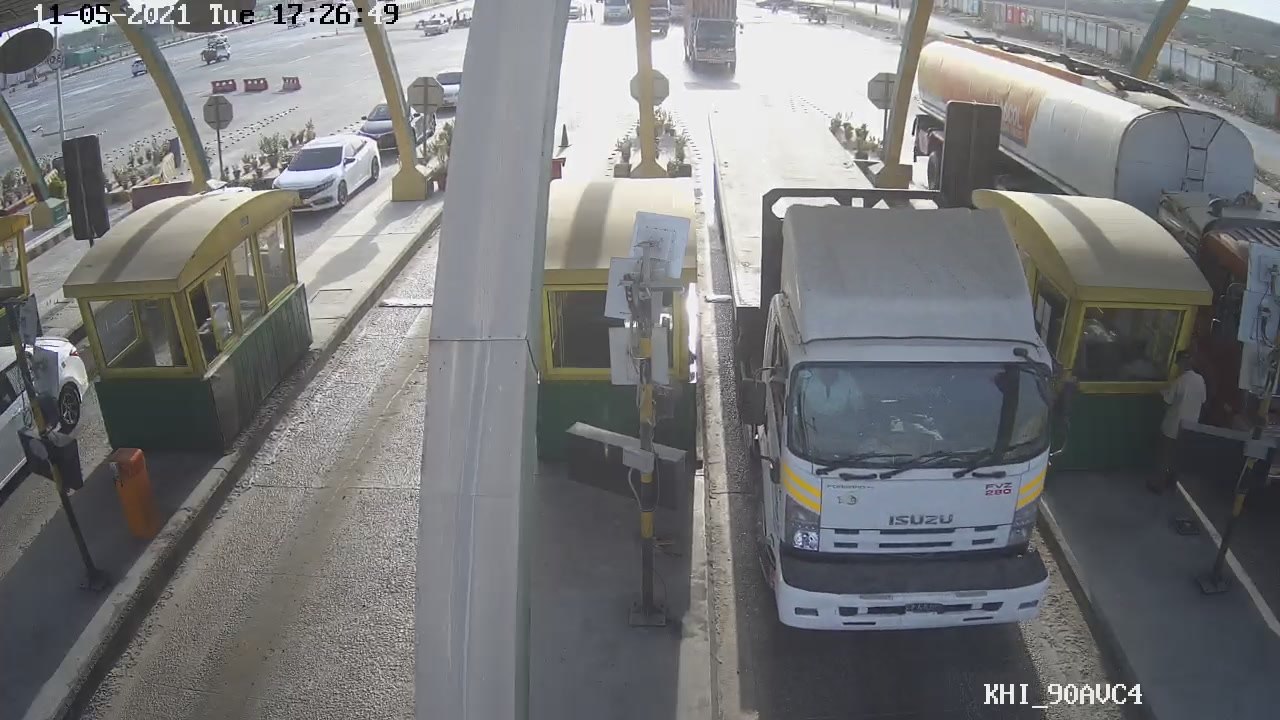F6: (703, 110, 1084, 628)
